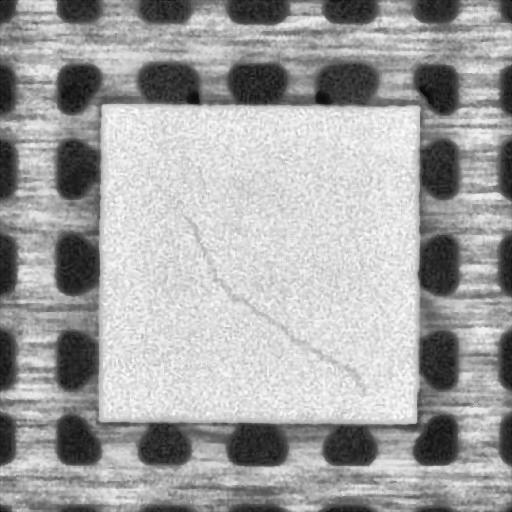DIE_CRACK: (190, 215, 371, 397)
